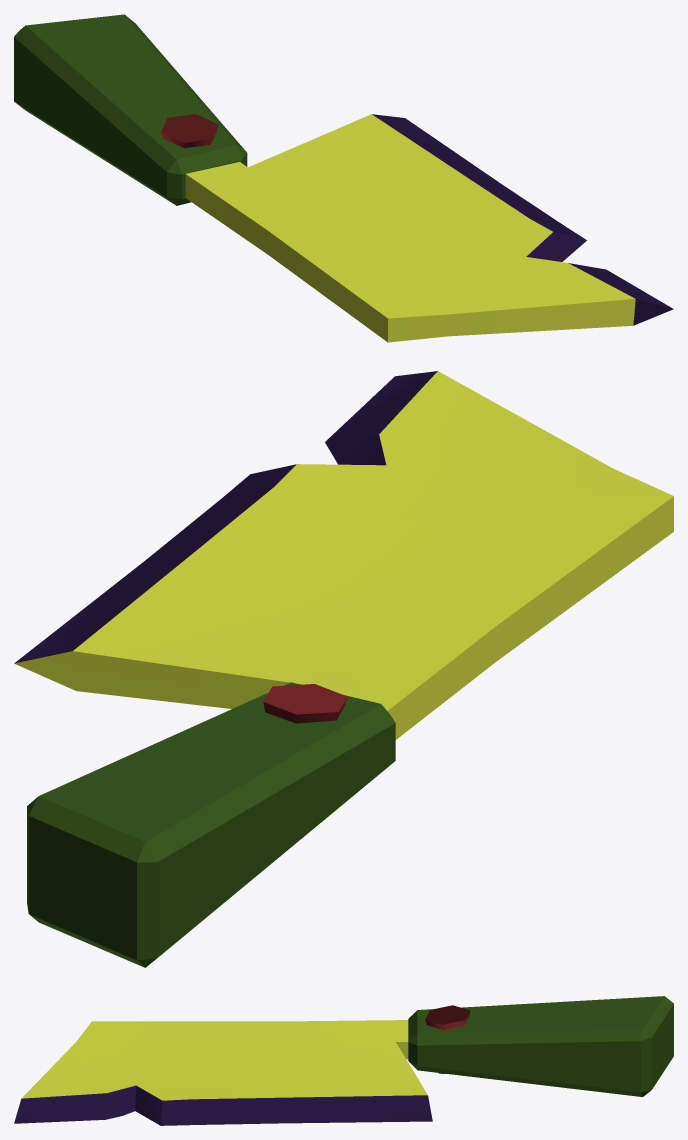
The model's file is SM_FoodKnife_01.fbx.
The picture shows the model from 3 angles, top to bottom: view 1: azimuth 30°, elevation 25°; view 2: azimuth 150°, elevation 25°; view 3: azimuth 270°, elevation 25°; orthographic projection. The views are drawn at different scales.
Visible parts, largest first — view 1: SM_FoodKnife_01; view 2: SM_FoodKnife_01; view 3: SM_FoodKnife_01.
Part boxes in pixels (box(x1,y1,x2,y2)): SM_FoodKnife_01: box(14, 14, 673, 342); SM_FoodKnife_01: box(14, 371, 673, 967); SM_FoodKnife_01: box(14, 996, 673, 1125).
Bounding box in the file's own units: 0.1773 × 0.0558 × 0.4908.
